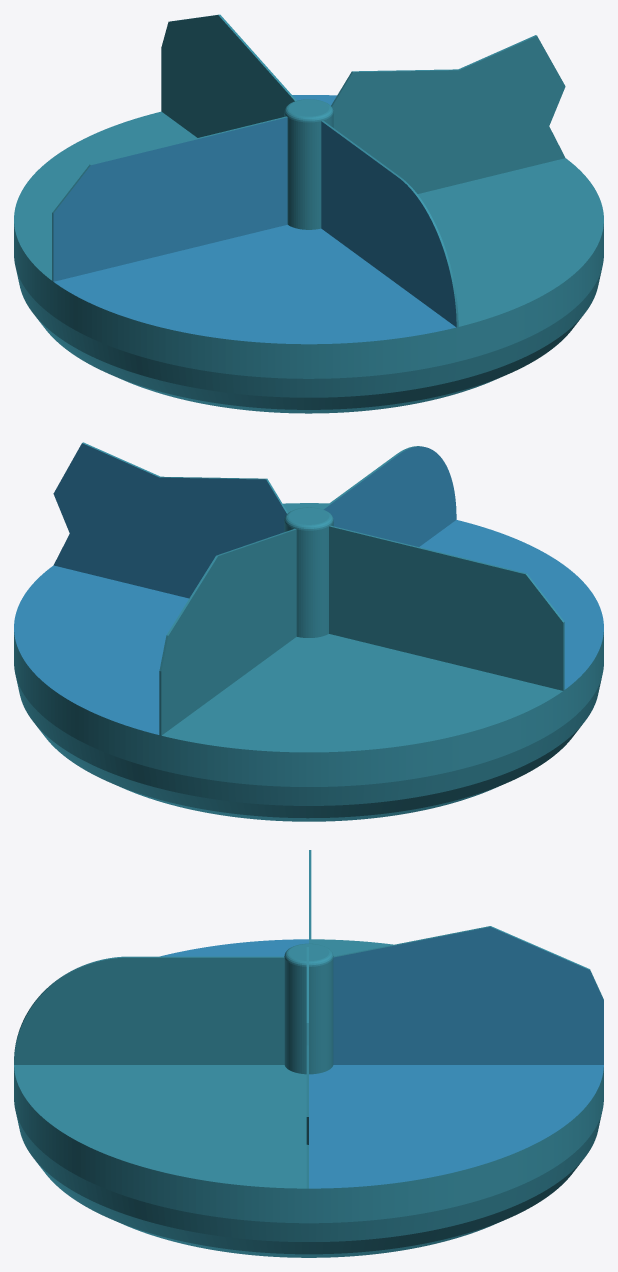
3 renders of one model, top to bottom at view 1: azimuth 30°, elevation 25°; view 2: azimuth 150°, elevation 25°; view 3: azimuth 270°, elevation 25°, orthographic.
Visible parts, largest first — view 1: Cylinder, Cylinder.001; view 2: Cylinder, Cylinder.001; view 3: Cylinder, Cylinder.001.
Part boxes in pixels (<box>): Cylinder: <box>14,95,603,413</box>; Cylinder.001: <box>52,14,565,327</box>; Cylinder: <box>14,503,603,821</box>; Cylinder.001: <box>53,442,564,735</box>; Cylinder: <box>14,939,603,1257</box>; Cylinder.001: <box>14,850,603,1188</box>.
Bounding box in the file's own units: 24 × 10.2 × 24.
